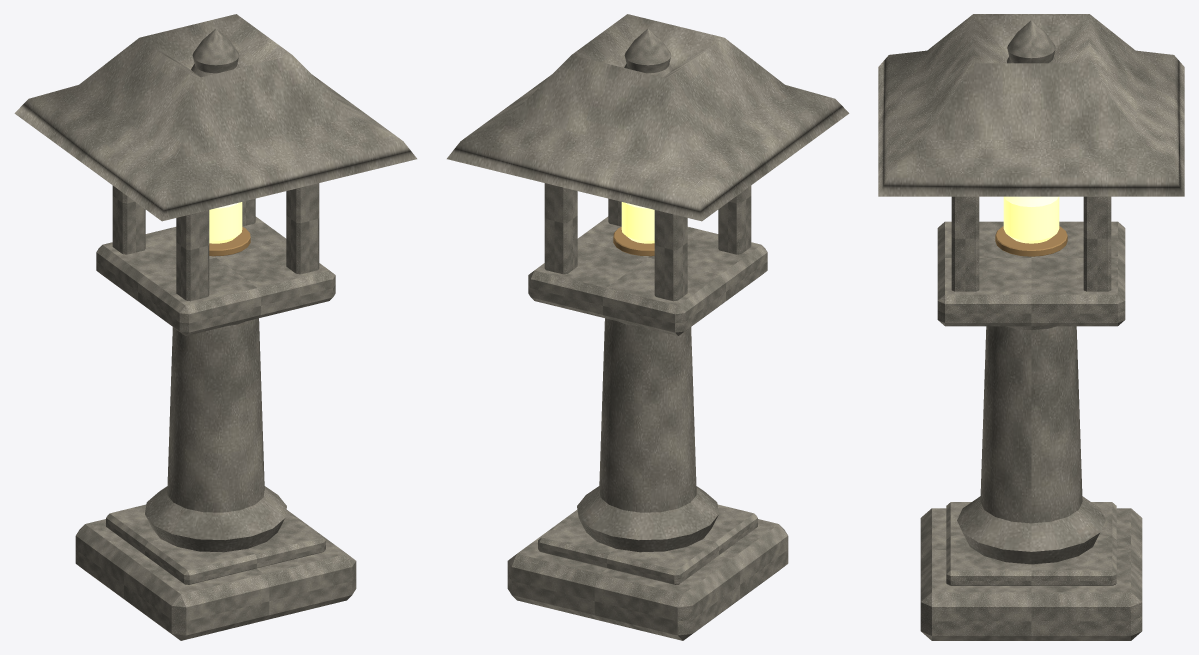
The model's file is stone-lantern.glb.
The picture shows the model from 3 angles, left to right: view 1: azimuth 30°, elevation 25°; view 2: azimuth 150°, elevation 25°; view 3: azimuth 270°, elevation 25°; orthographic projection. The views are drawn at different scales.
Visible parts, largest first — view 1: stone-lantern; view 2: stone-lantern; view 3: stone-lantern.
Part boxes in pixels (x1=…): stone-lantern: x1=14, y1=14, x2=416, y2=640; stone-lantern: x1=447, y1=14, x2=849, y2=640; stone-lantern: x1=878, y1=14, x2=1184, y2=640.
Bounding box in the file's own units: 0.72 × 1.5 × 0.72.
Materials: 3 (1 with a texture image).
